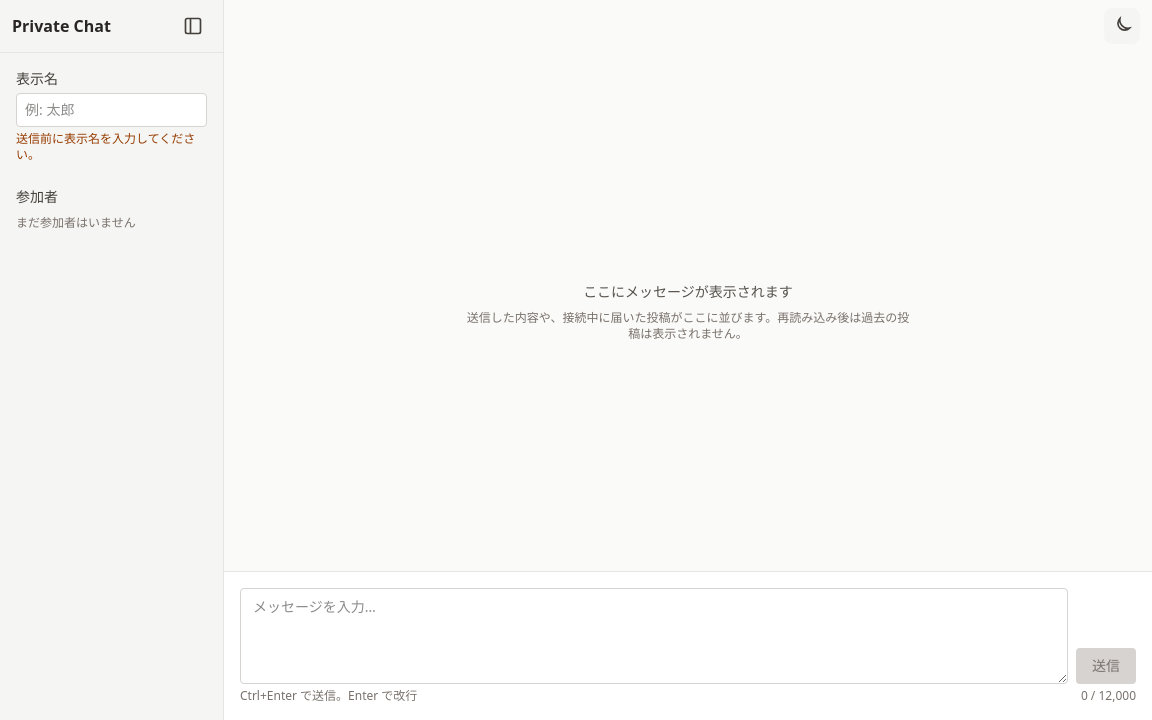
Scenario: ChatApp (フェーズ3) › shows error when socket is not open on send
This screenshot has width=1152, height=720.
Type "Alice" into the field labelled "表示名" at (112, 110), box [16, 93, 207, 127]
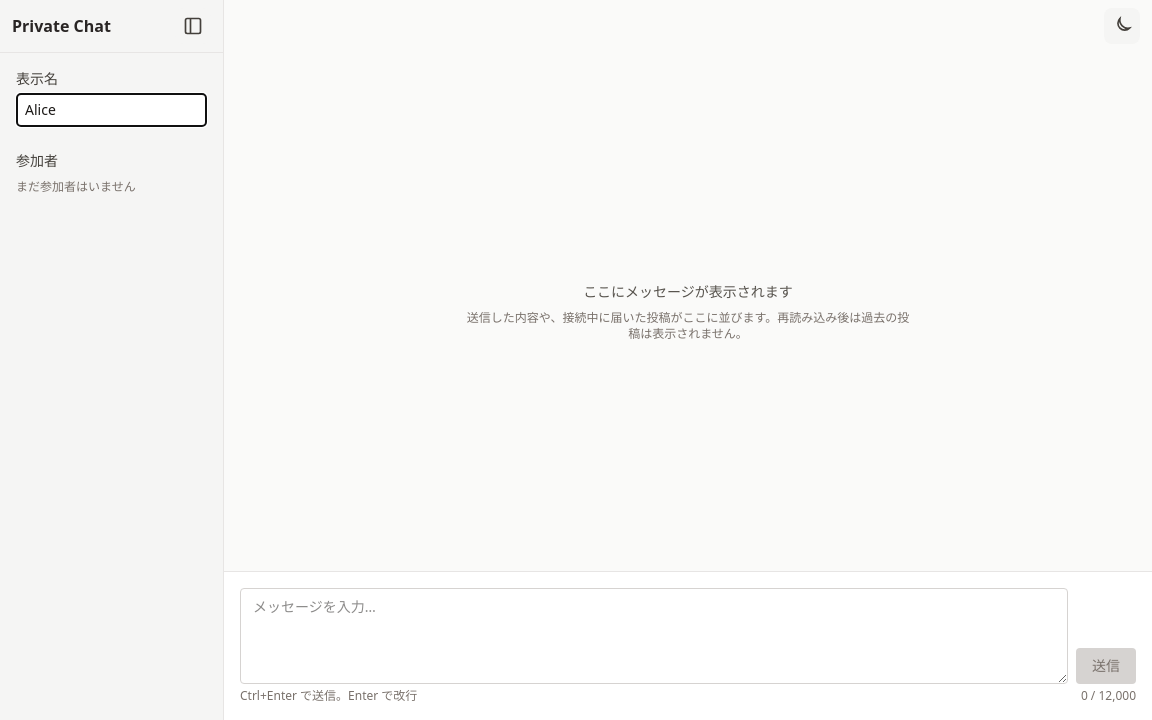
Type "x" into the text box named "メッセージ入力" at (654, 636), box [240, 588, 1068, 684]
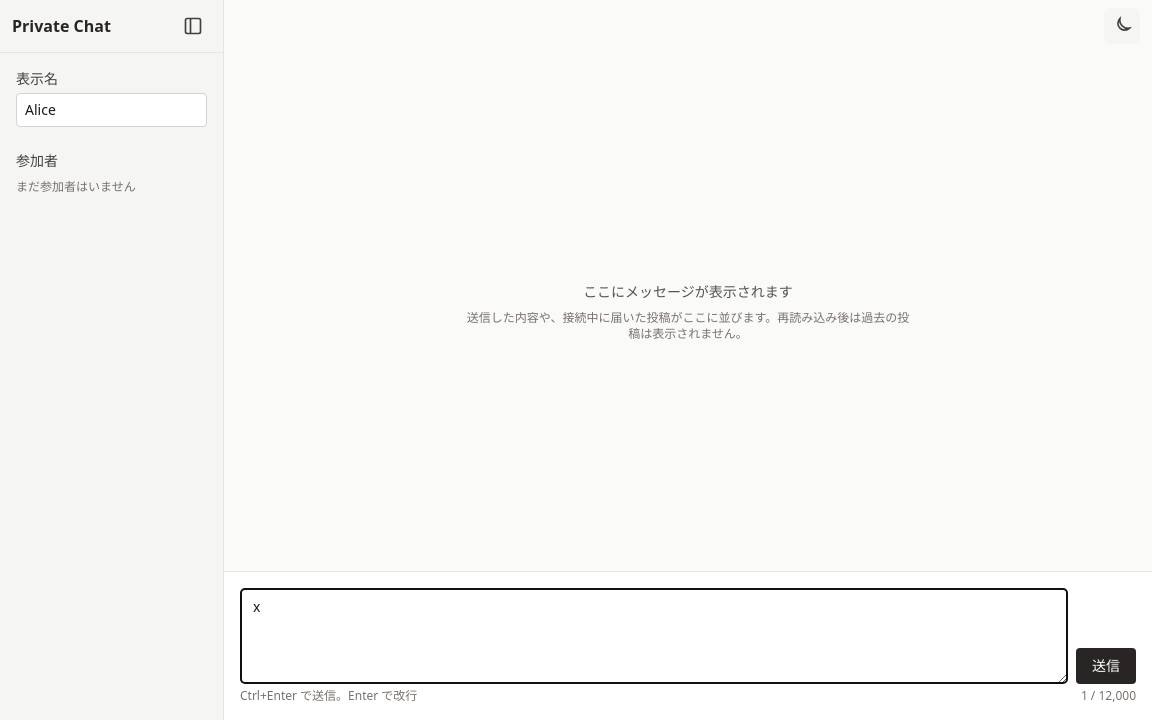
Type keys "{Control>}{Enter}{/Control}"
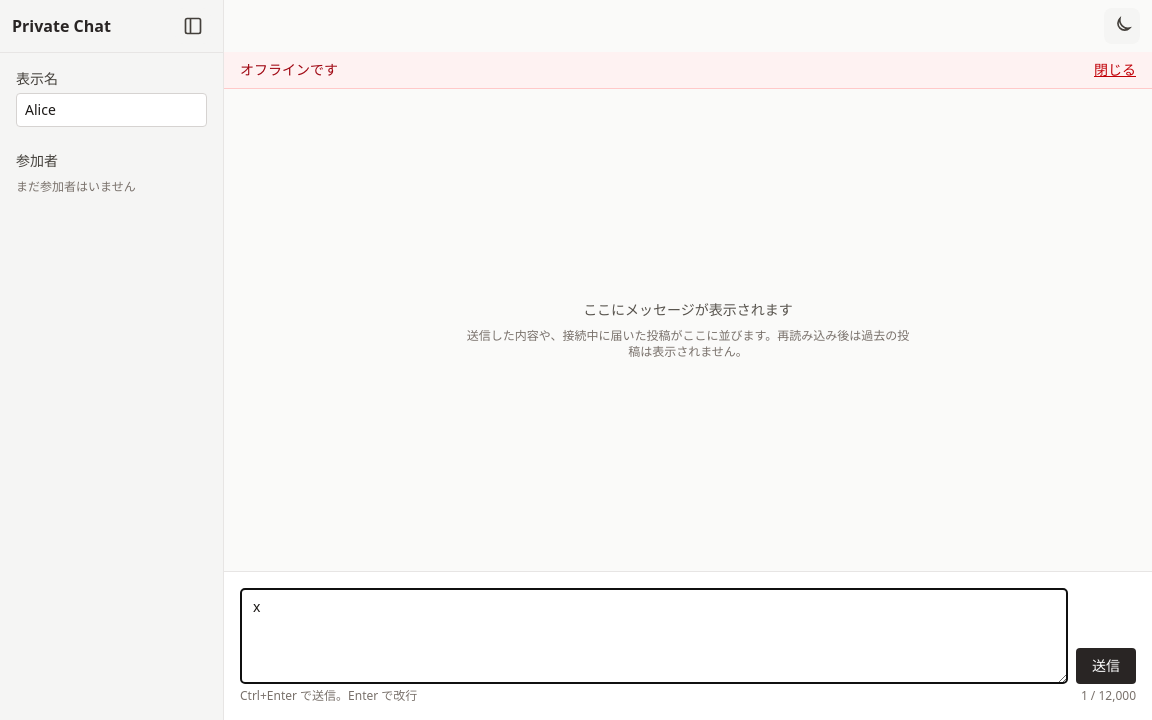
expect the message shows "オフラインです": met, box [240, 60, 338, 79]
